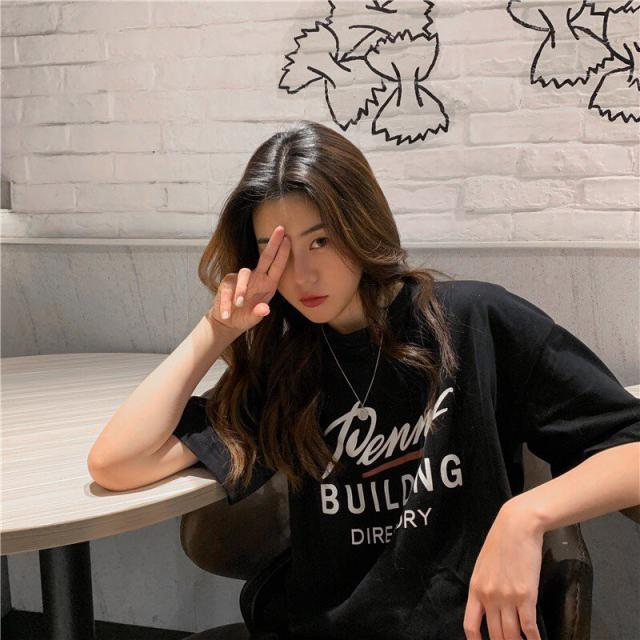Shirt: (169, 283, 637, 639)
